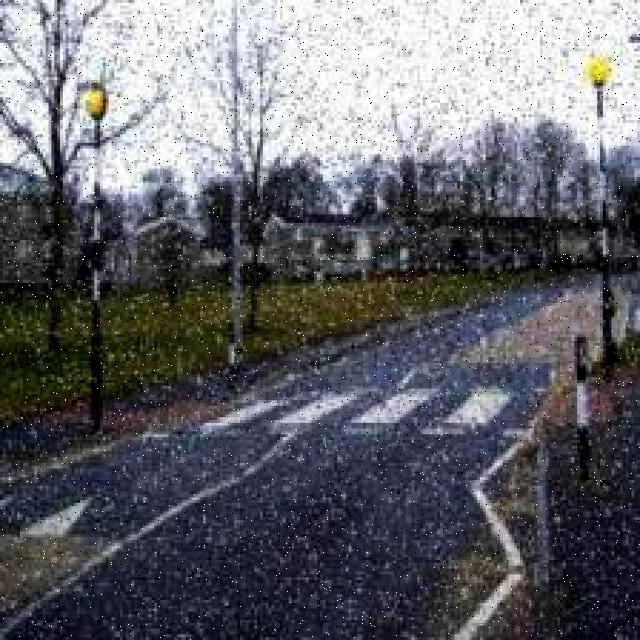crosswalk: (196, 370, 540, 438)
